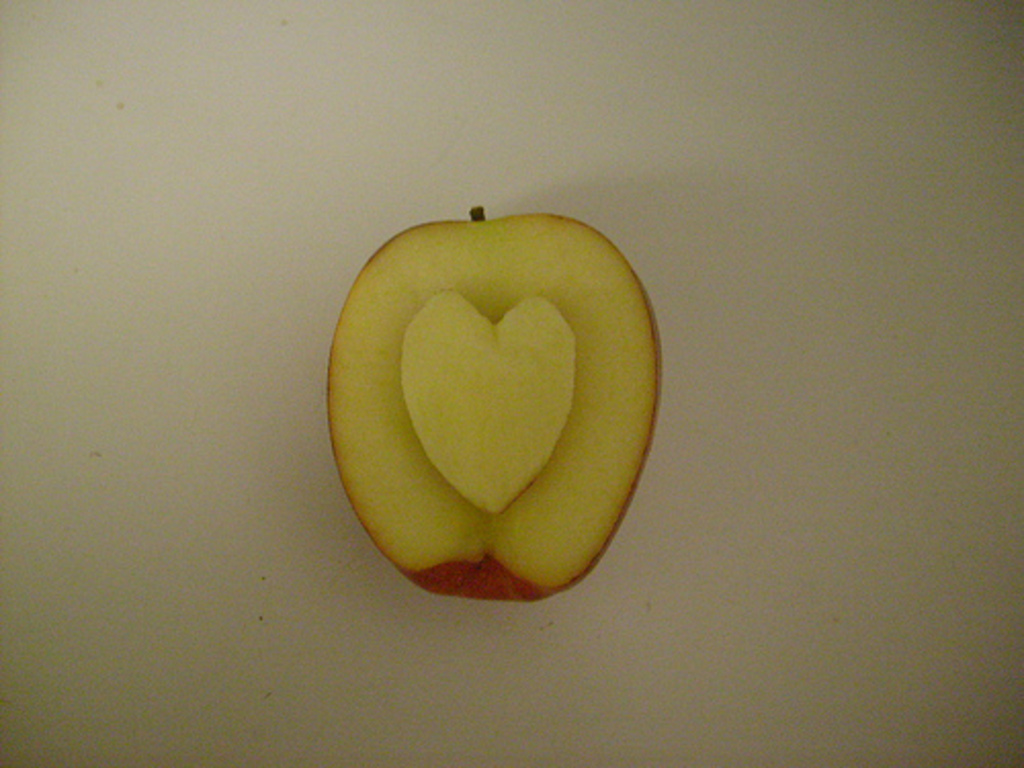Apple: (344, 225, 643, 630)
